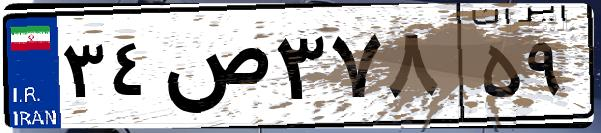3: (270, 28, 330, 110), (57, 26, 110, 100)
4: (110, 28, 158, 98)
5: (475, 38, 525, 113)
7: (330, 28, 385, 110)
8: (385, 28, 445, 110)
9: (525, 38, 570, 115)
ص: (158, 20, 270, 120)
